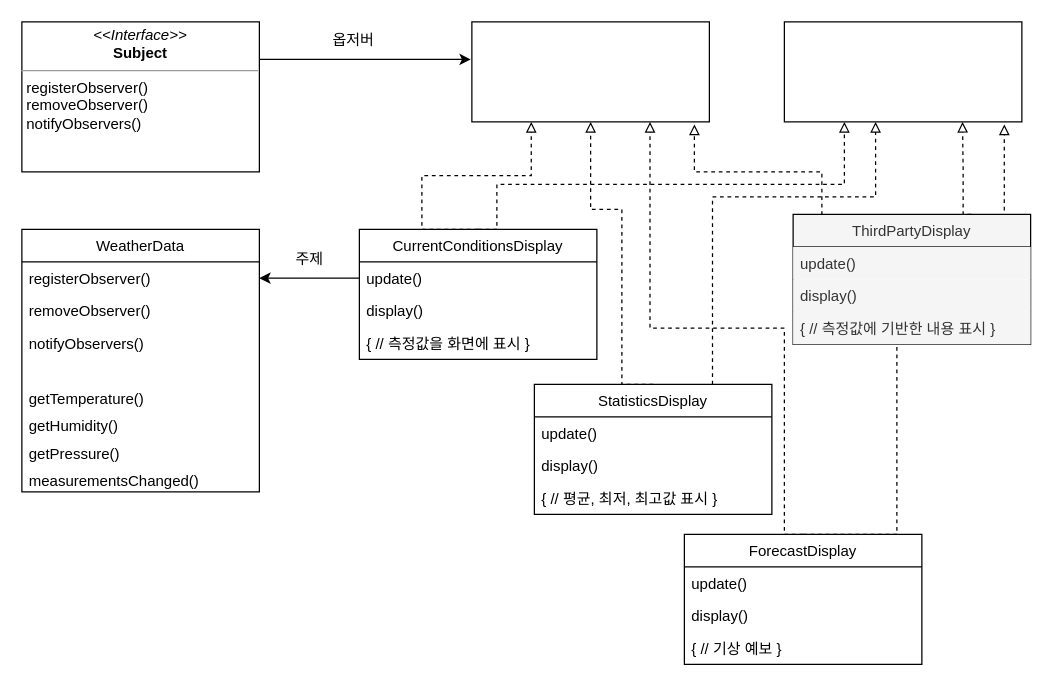
The diagram is 1053 pixels wide and 690 high, and some of its shapes have lost their labels. The shapes that lost their labels are listed below. From the top down, each one's centre as x and y in pixels, then its label:
At pixel 590 71: "<<Interface>> Observer update()".
At pixel 902 71: "<<Interface>> DisplayElement display()".
